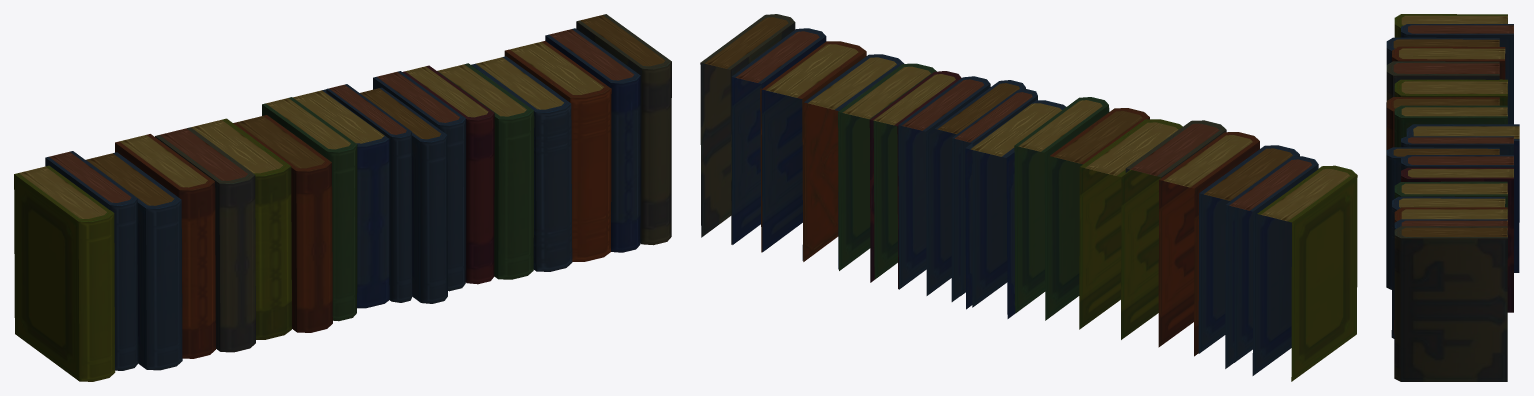
File: BookGroup Medium 3.glb
The picture shows the model from 3 angles, left to right: view 1: azimuth 30°, elevation 25°; view 2: azimuth 150°, elevation 25°; view 3: azimuth 270°, elevation 25°; orthographic projection. The views are drawn at different scales.
Parts seen in each view (by area): view 1: BookGroup_Medium_3; view 2: BookGroup_Medium_3; view 3: BookGroup_Medium_3.
Part boxes in pixels (x1,y1,x2,y2): BookGroup_Medium_3: [14, 14, 671, 381]; BookGroup_Medium_3: [700, 14, 1357, 381]; BookGroup_Medium_3: [1386, 14, 1519, 381].
Bounding box in the file's own units: 1.04 × 0.2949 × 0.2475.
1 material, 1 textured.
